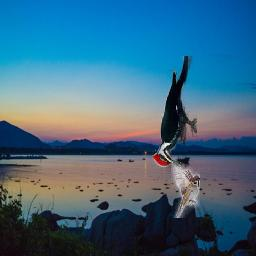Sparrow: (172, 158, 201, 219)
Woodpecker: (153, 56, 198, 168)
